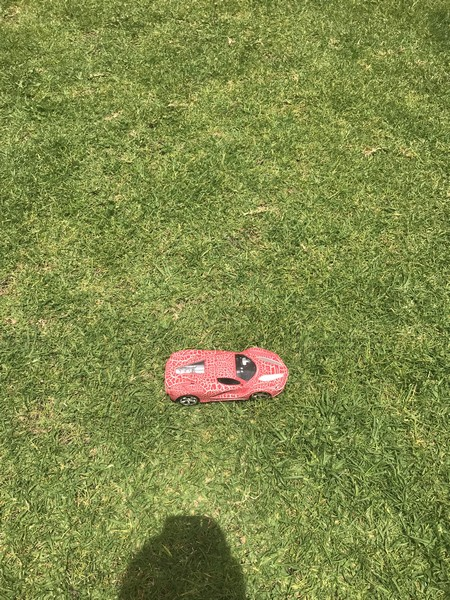RC: (163, 346, 290, 405)
